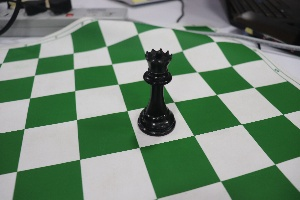black_queen: (132, 39, 182, 144)
